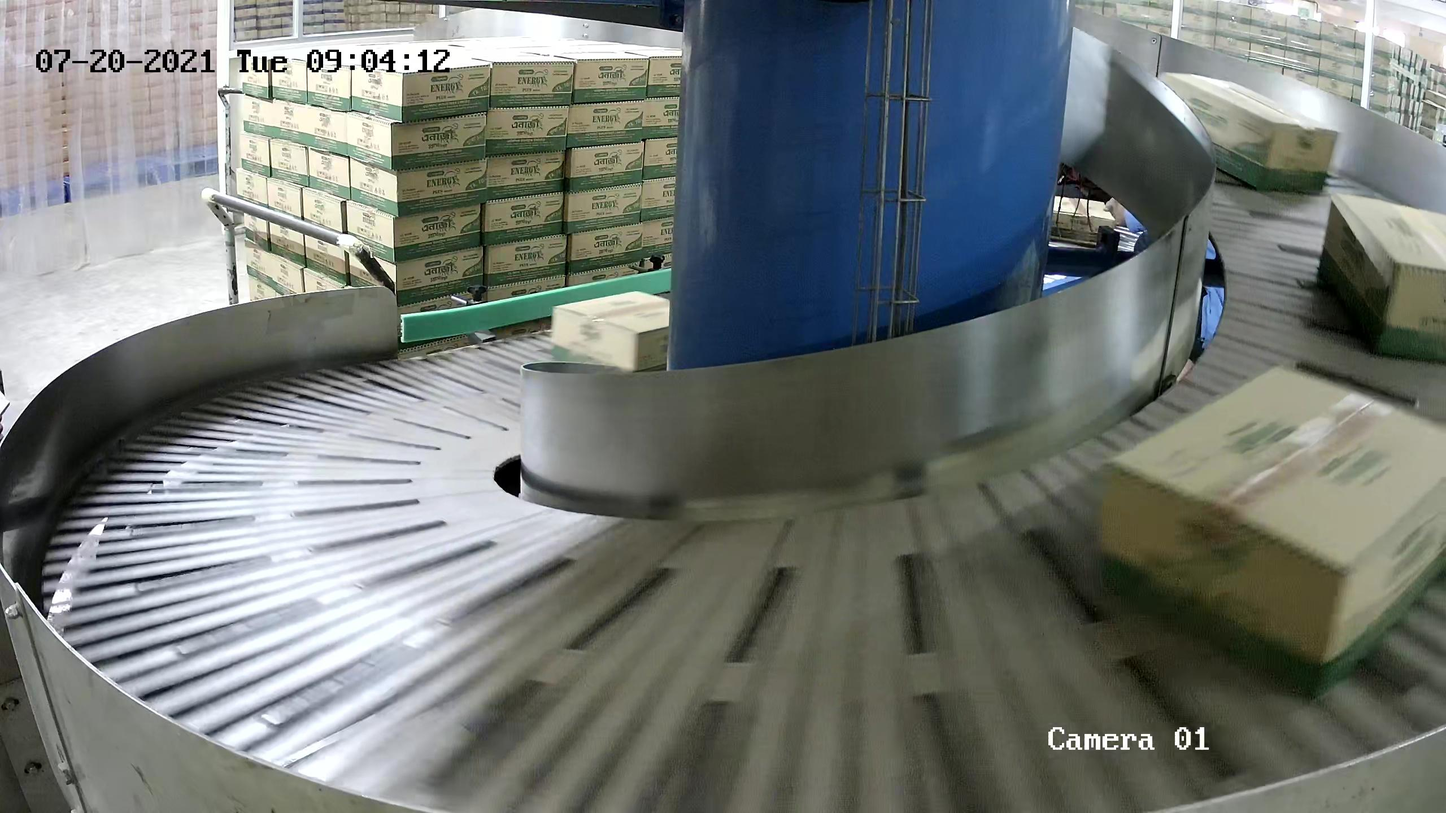Box: (1094, 362, 1446, 703), (1149, 71, 1340, 194), (1316, 190, 1446, 365), (550, 291, 708, 387)
